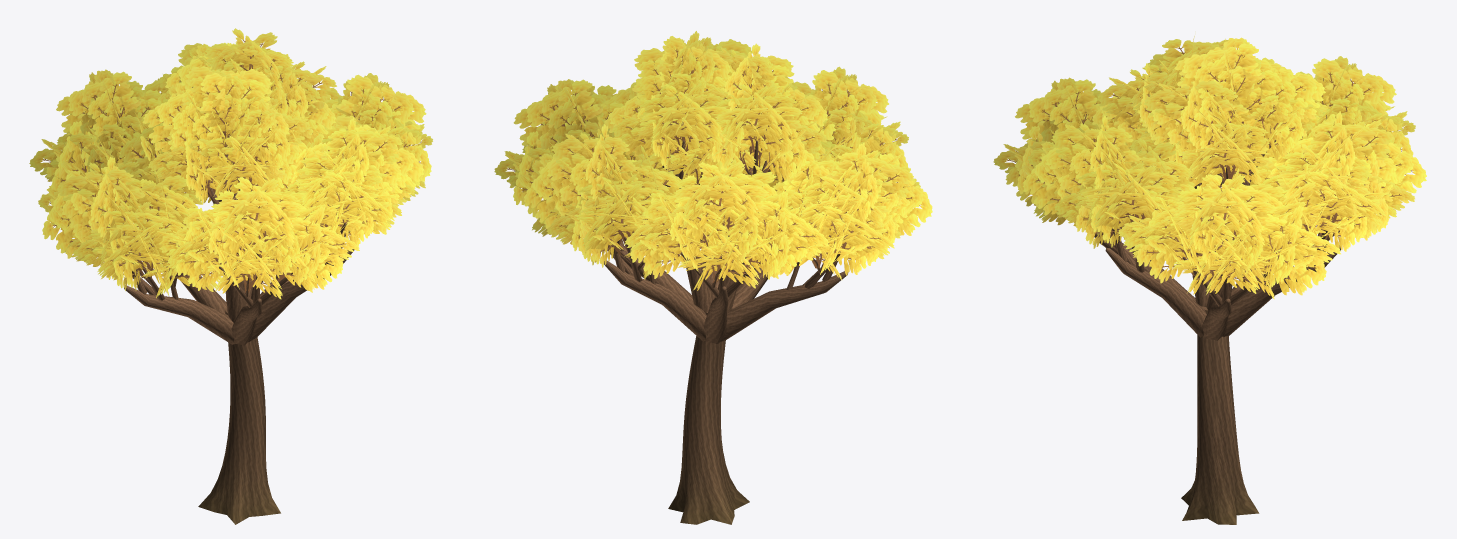
The model's file is gold-tree-BI5s__OM.glb.
3 views of the same model, side by side, from view 1: azimuth 30°, elevation 25°; view 2: azimuth 150°, elevation 25°; view 3: azimuth 270°, elevation 25° (orthographic).
Visible parts, largest first — view 1: canopy-foliage, GoldBark; view 2: canopy-foliage, GoldBark; view 3: canopy-foliage, GoldBark.
Part boxes in pixels (<box>): canopy-foliage: <box>29,28,432,299</box>; GoldBark: <box>109,154,354,524</box>; canopy-foliage: <box>494,31,932,290</box>; GoldBark: <box>604,140,848,524</box>; canopy-foliage: <box>993,36,1426,299</box>; GoldBark: <box>1094,139,1340,524</box>.
Bounding box in the file's own units: 5.3 × 6.1 × 5.3.
Materials: 2 (2 with a texture image).
